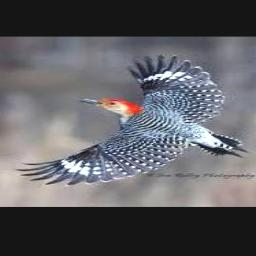Woodpecker: (15, 54, 249, 186)
